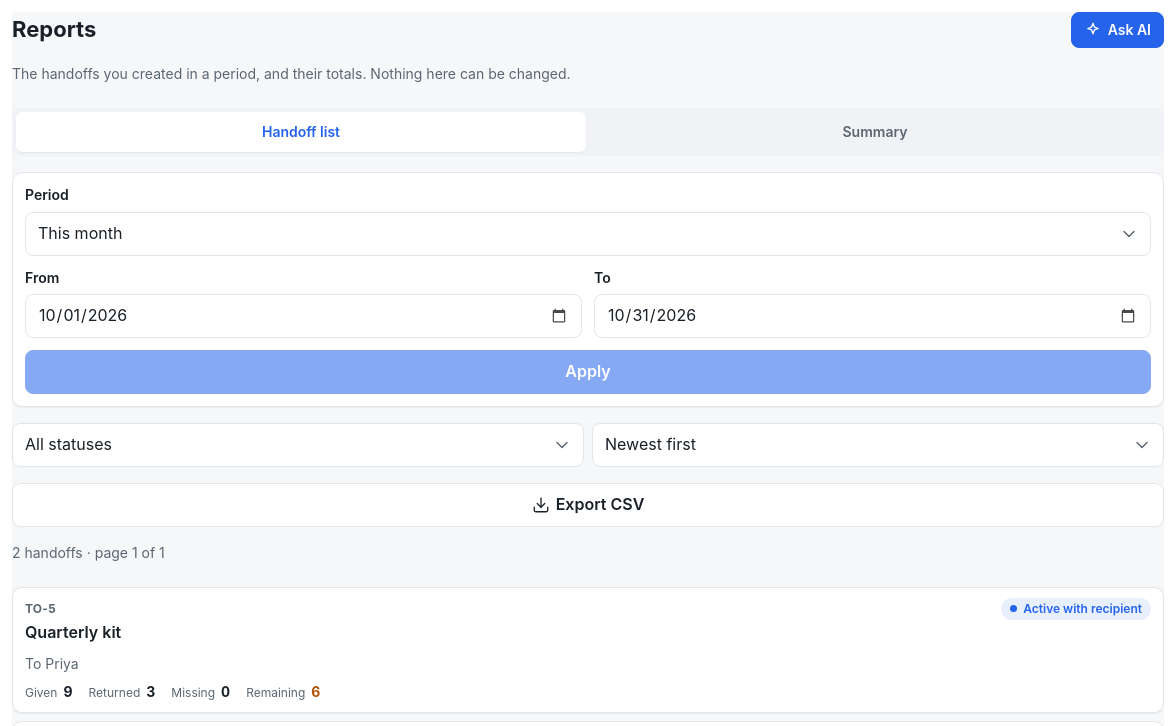
Test case: Reports › switches between the list and the summary
Expected: the heading "Quarterly kit" is shown, x1=25 y1=622 x2=121 y2=642
Click the button "Summary" at (875, 132), box x1=590 y1=112 x2=1160 y2=152
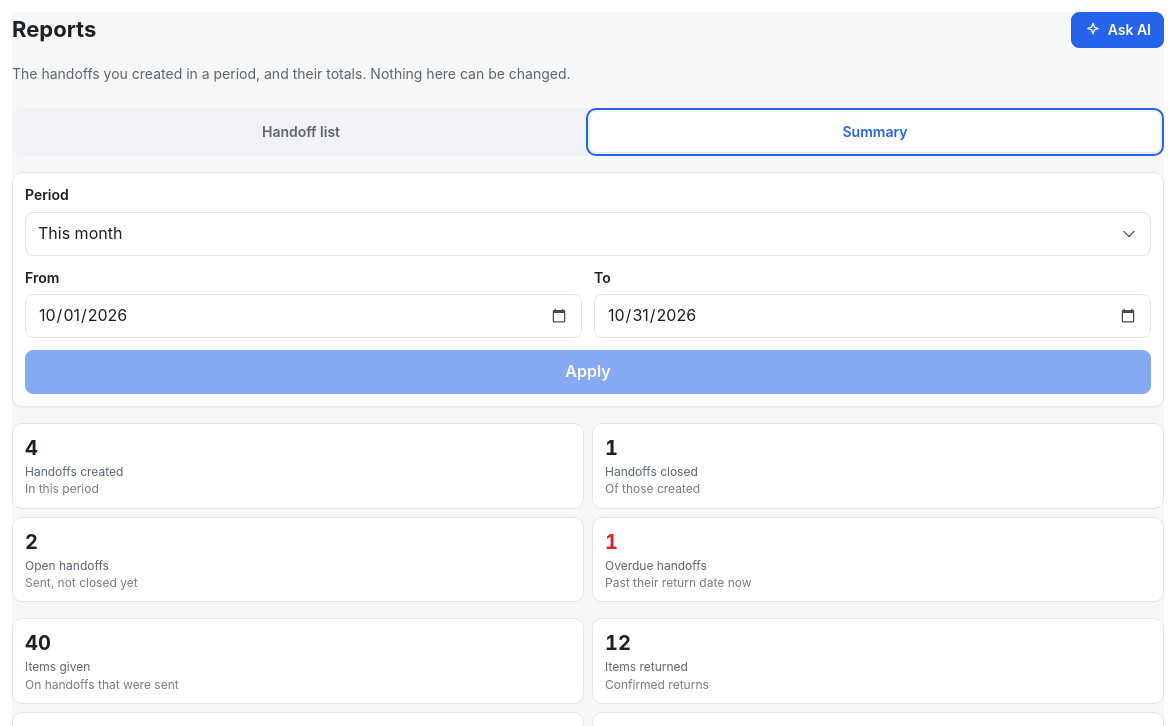
Now the text "Handoffs created" is shown, box x1=25 y1=464 x2=123 y2=479
